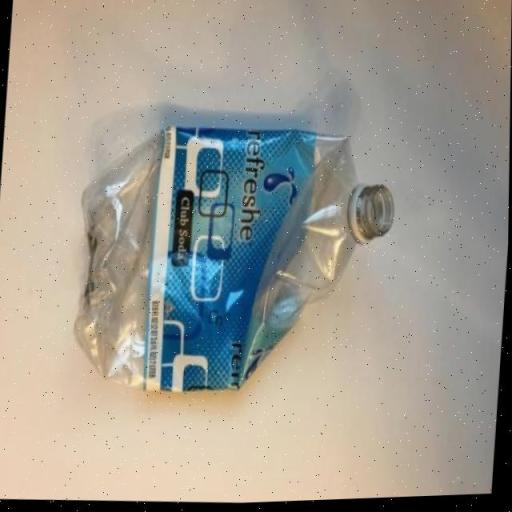plastic: (76, 109, 394, 393)
